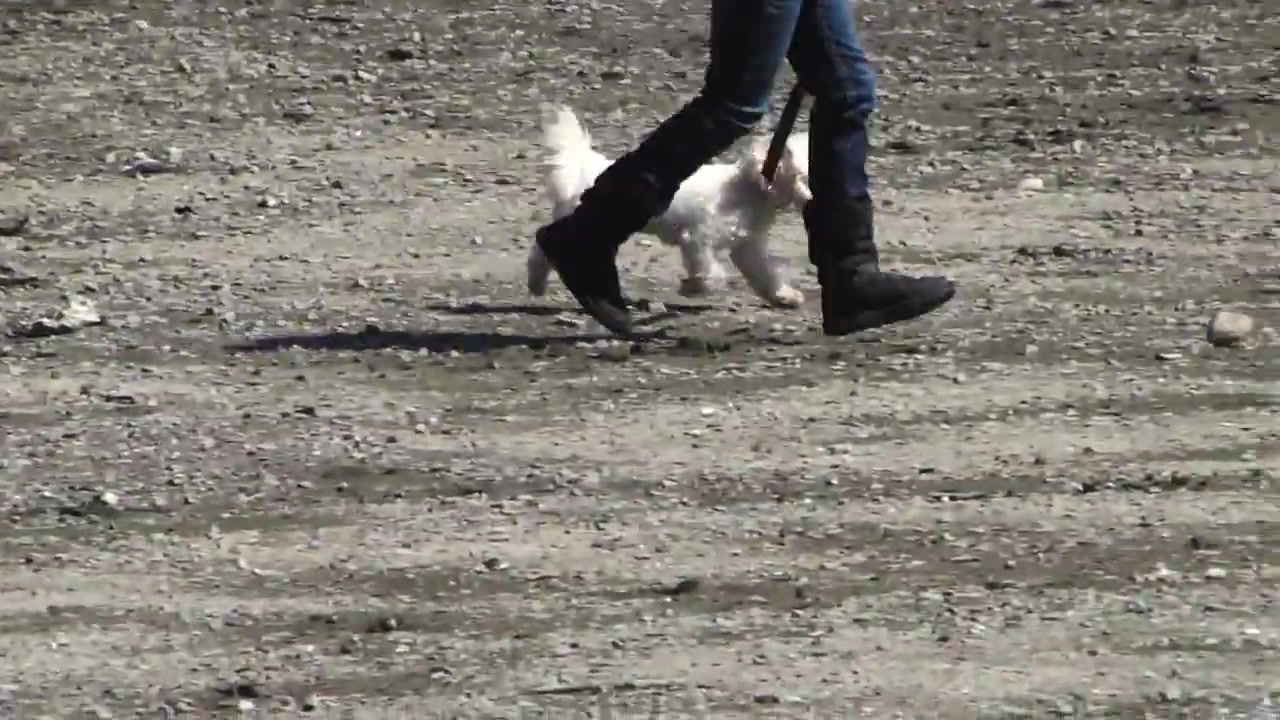dog: (532, 99, 816, 311)
